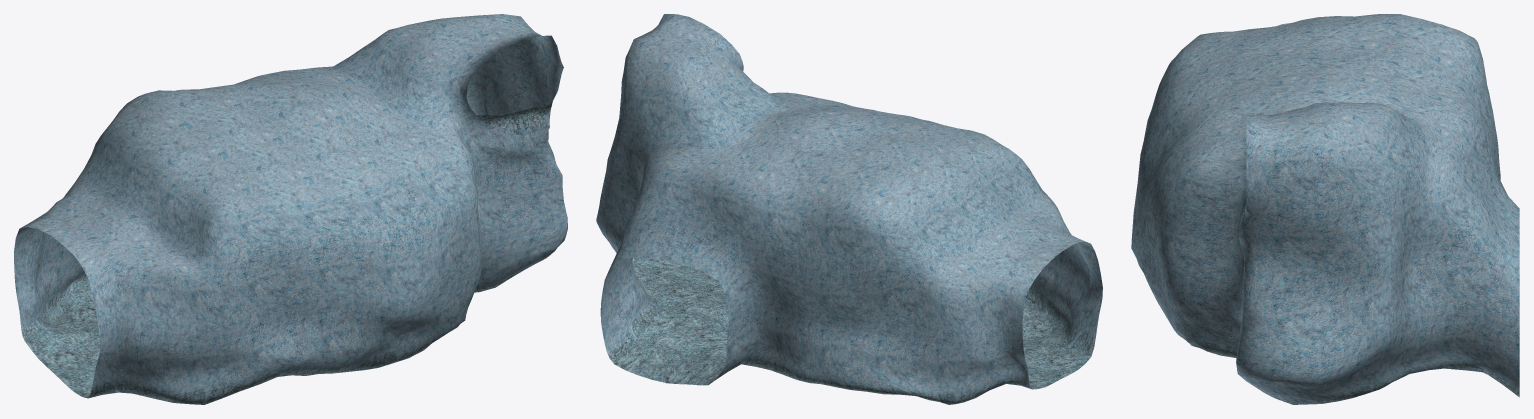
The model's file is thm_all_cave_s01_ice_r9_mesh_r9.fbx.
3 renders of one model, left to right at view 1: azimuth 30°, elevation 25°; view 2: azimuth 150°, elevation 25°; view 3: azimuth 270°, elevation 25°, orthographic. The views are drawn at different scales.
Visible parts, largest first — view 1: mesh_node; view 2: mesh_node; view 3: mesh_node.
Part boxes in pixels (x1,y1,x2,y2): mesh_node: (14,14,567,404); mesh_node: (596,14,1102,404); mesh_node: (1131,14,1519,404).
Size of the model in its own units: 80.39 by 43.77 by 50.19.
